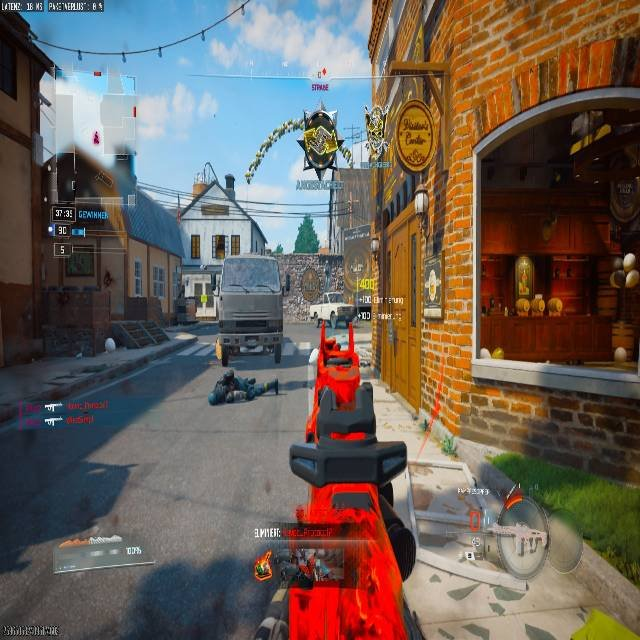head: (305, 107, 337, 125), (207, 387, 225, 406), (222, 368, 235, 382)
player: (298, 107, 342, 179)
